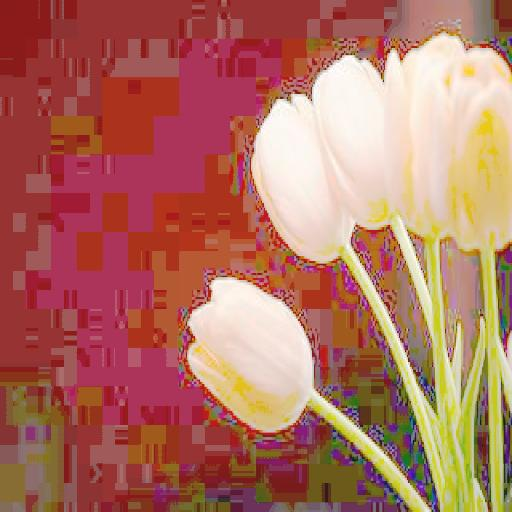tulip: (190, 282, 314, 428), (386, 34, 470, 234), (432, 46, 512, 241), (253, 99, 349, 258), (315, 58, 397, 225)
